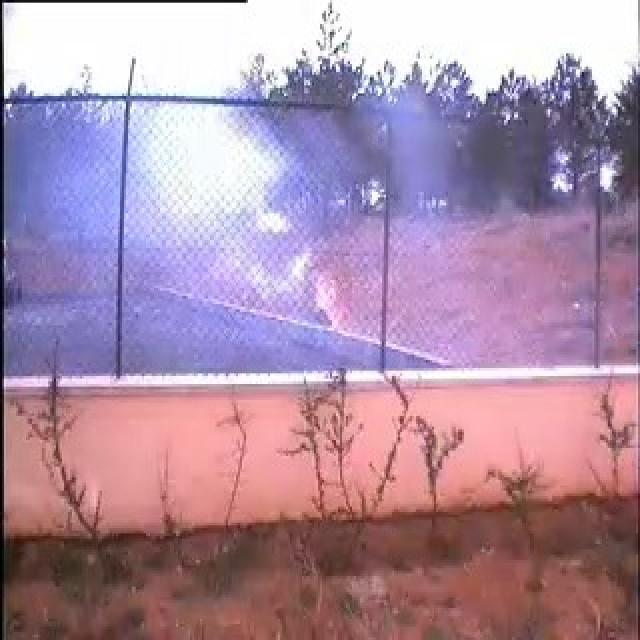smoke: (64, 105, 335, 347)
